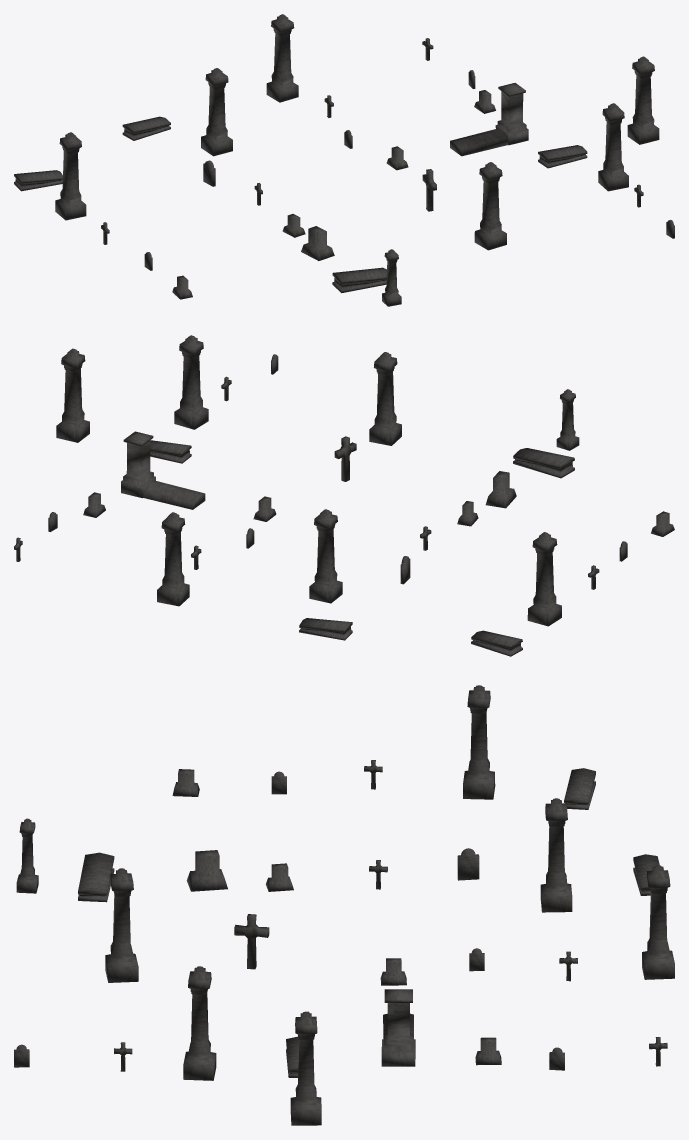
Rendered from cemetery.glb.
The picture shows the model from 3 angles, top to bottom: view 1: azimuth 30°, elevation 25°; view 2: azimuth 150°, elevation 25°; view 3: azimuth 270°, elevation 25°; orthographic projection. The views are drawn at different scales.
Parts seen in each view (by area): view 1: Tomb_23, GraveColumn_37, GraveColumn_7, GraveColumn_31, GraveColumn_19, GraveColumn_25, GraveColumn_13, GraveCoffin2_6, GraveCoffin2_18, GraveCoffin2_30, GraveCoffin2_36, GraveStone_16_1 (+1 smaller); view 2: Tomb_23, GraveColumn_13, GraveColumn_25, GraveColumn_19, GraveColumn_31, GraveColumn_37, GraveColumn_7, GraveCoffin2_6, GraveCoffin2_36, GraveCoffin2_30, GraveColumn_1, GraveStone_16_1 (+2 smaller); view 3: GraveColumn_7, GraveColumn_13, GraveColumn_37, GraveColumn_25, GraveColumn_31, GraveColumn_19, Tomb_23, GraveCoffin2_6, GraveStone_16_1, GraveColumn_1, GraveCoffin2_30, GraveCross_2 (+2 smaller).
Part boxes in pixels (left/top/right/bottom): Tomb_23: left=450, top=83, right=528, bottom=156; GraveColumn_37: left=266, top=14, right=298, bottom=102; GraveColumn_7: left=474, top=162, right=506, bottom=250; GraveColumn_31: left=201, top=68, right=232, bottom=156; GraveColumn_19: left=627, top=56, right=659, bottom=144; GraveColumn_25: left=55, top=132, right=86, bottom=220; GraveColumn_13: left=598, top=103, right=628, bottom=191; GraveCoffin2_6: left=332, top=267, right=386, bottom=293; GraveCoffin2_18: left=538, top=145, right=587, bottom=168; GraveCoffin2_30: left=14, top=170, right=62, bottom=191; GraveCoffin2_36: left=122, top=116, right=170, bottom=140; GraveStone_16_1: left=301, top=226, right=334, bottom=260; Tomb_23: left=121, top=431, right=205, bottom=509; GraveColumn_13: left=174, top=335, right=208, bottom=429; GraveColumn_25: left=527, top=532, right=561, bottom=626; GraveColumn_19: left=56, top=348, right=89, bottom=442; GraveColumn_31: left=309, top=509, right=342, bottom=603; GraveColumn_37: left=157, top=512, right=189, bottom=606; GraveColumn_7: left=369, top=352, right=401, bottom=445; GraveCoffin2_6: left=513, top=448, right=574, bottom=478; GraveCoffin2_36: left=299, top=618, right=352, bottom=640; GraveCoffin2_30: left=471, top=630, right=522, bottom=656; GraveColumn_1: left=556, top=389, right=579, bottom=450; GraveStone_16_1: left=485, top=471, right=516, bottom=508; GraveColumn_7: left=105, top=868, right=138, bottom=982; GraveColumn_13: left=183, top=966, right=216, bottom=1080; GraveColumn_37: left=642, top=865, right=674, bottom=979; GraveColumn_25: left=463, top=685, right=495, bottom=799; GraveColumn_31: left=540, top=798, right=572, bottom=912; GraveColumn_19: left=290, top=1011, right=321, bottom=1125; Tomb_23: left=381, top=989, right=415, bottom=1066; GraveCoffin2_6: left=78, top=852, right=114, bottom=902; GraveStone_16_1: left=186, top=850, right=227, bottom=891; GraveColumn_1: left=16, top=818, right=38, bottom=893; GraveCoffin2_30: left=564, top=768, right=595, bottom=809; GraveCross_2: left=234, top=914, right=269, bottom=969.
Size of the model in its own units: 6.01 by 0.901 by 4.9.
Materials: 1 (1 with a texture image).
